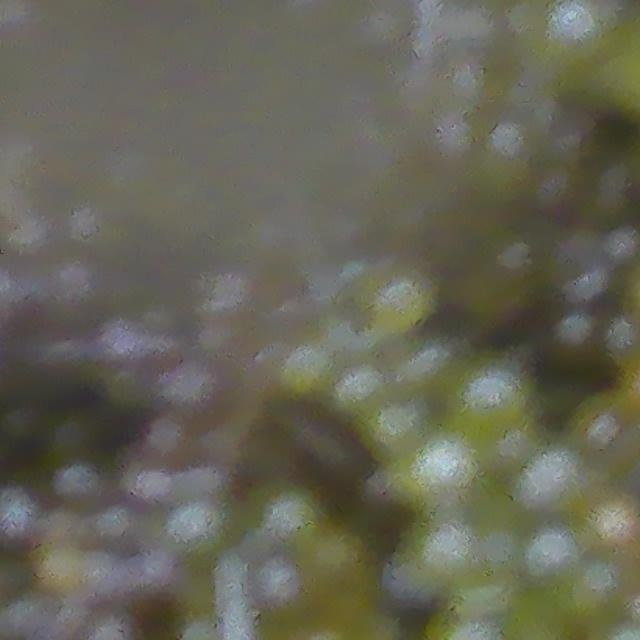SeaGrape: (521, 446, 588, 512), (523, 526, 578, 582)
